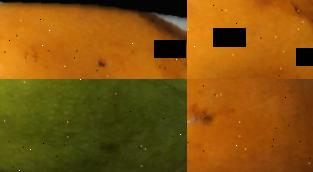Ripe: (0, 0, 187, 79), (187, 79, 313, 172), (187, 0, 313, 79)
Unripe: (0, 79, 187, 172)
